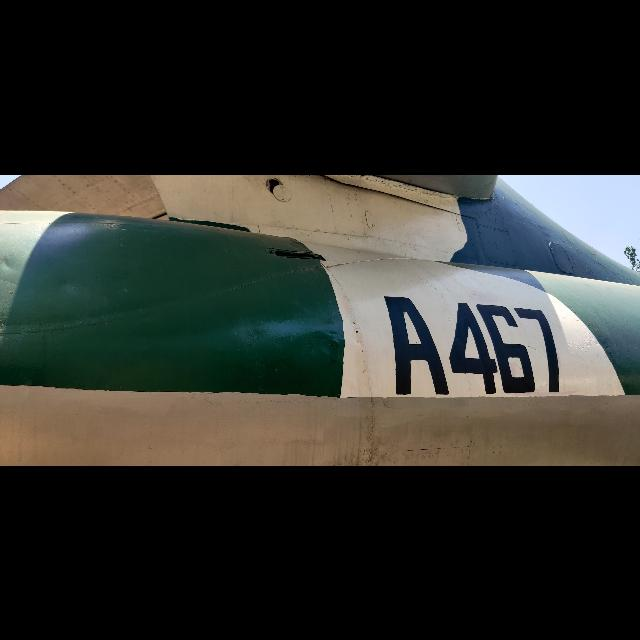dent: (302, 328, 346, 367), (232, 315, 272, 343), (52, 272, 78, 298), (0, 252, 22, 276)
